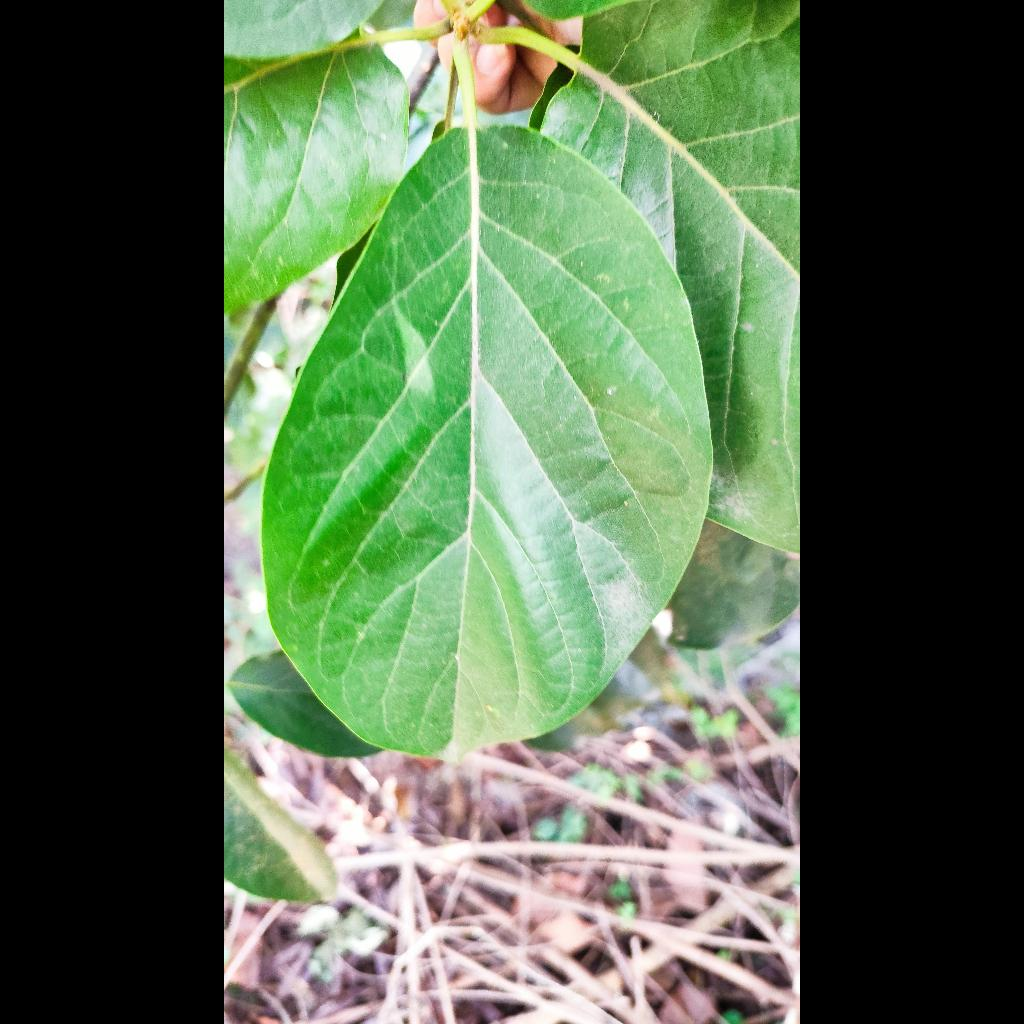hoja_sana: (263, 126, 711, 759)
